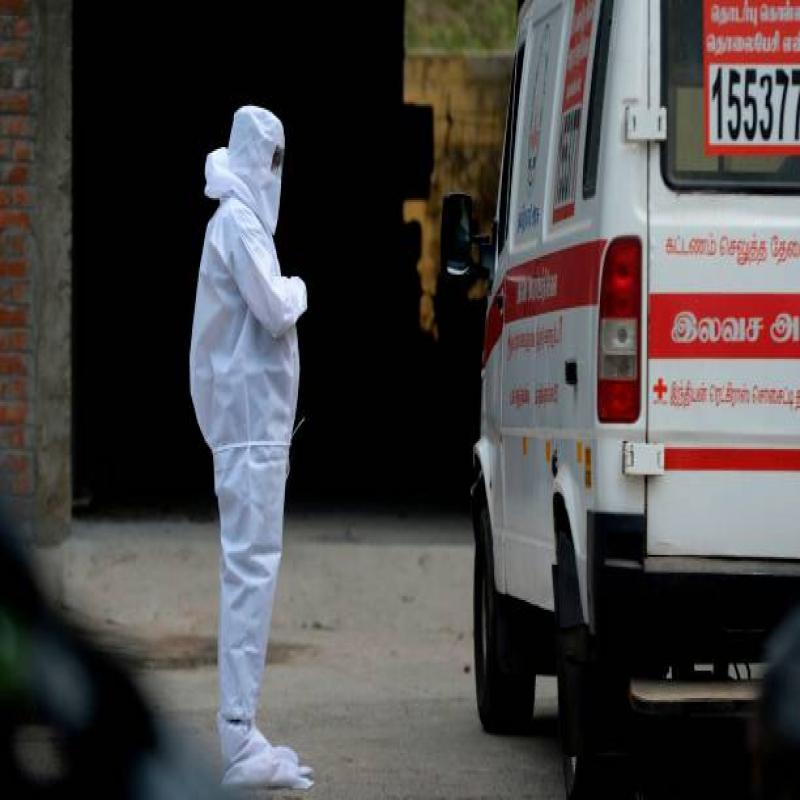ambulance: (482, 0, 799, 727)
